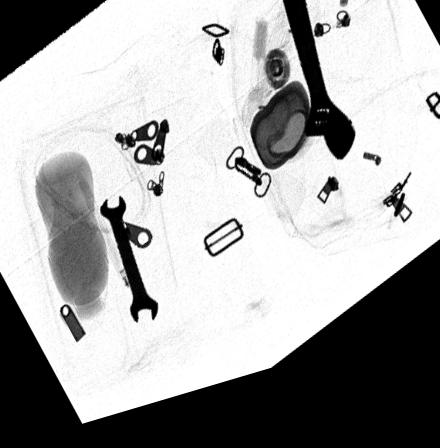Wrench: (279, 0, 359, 186), (97, 200, 158, 333)
